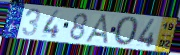3: (21, 8, 42, 37)
4: (136, 18, 156, 49), (41, 9, 61, 40)
8: (68, 11, 90, 42)
A: (84, 14, 111, 46)
O: (113, 16, 140, 48)
